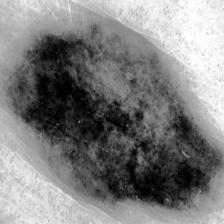Benign Marking or Mole: (0, 3, 224, 222)
